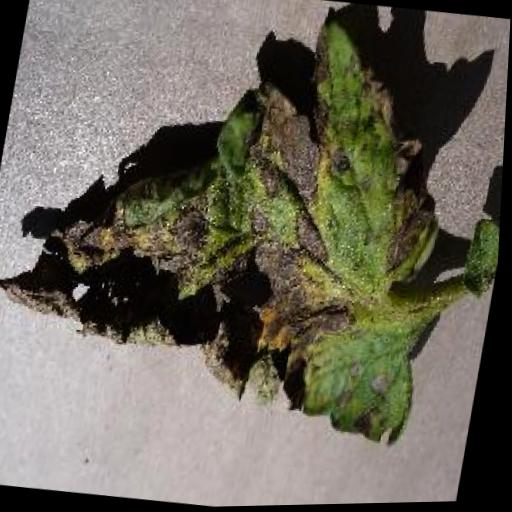Early Blight: (0, 0, 481, 451)
